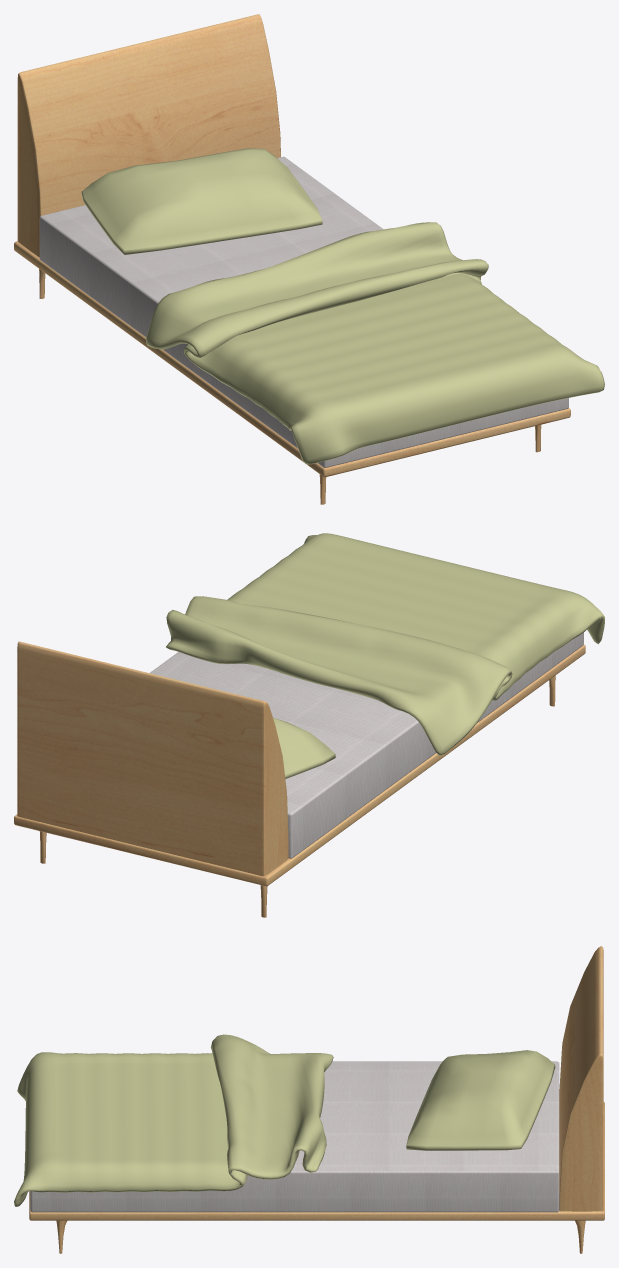
The model's file is ciwo_chuang.fbx.
3 renders of one model, top to bottom at view 1: azimuth 30°, elevation 25°; view 2: azimuth 150°, elevation 25°; view 3: azimuth 270°, elevation 25°, orthographic. The views are drawn at different scales.
Visible parts, largest first — view 1: ciwo_chuang; view 2: ciwo_chuang; view 3: ciwo_chuang.
Boxes of the visible parts, x1=… form: ciwo_chuang: x1=14, y1=14, x2=604, y2=504; ciwo_chuang: x1=14, y1=533, x2=604, y2=917; ciwo_chuang: x1=14, y1=946, x2=604, y2=1253.
Bounding box in the file's own units: 129 × 89.38 × 234.
